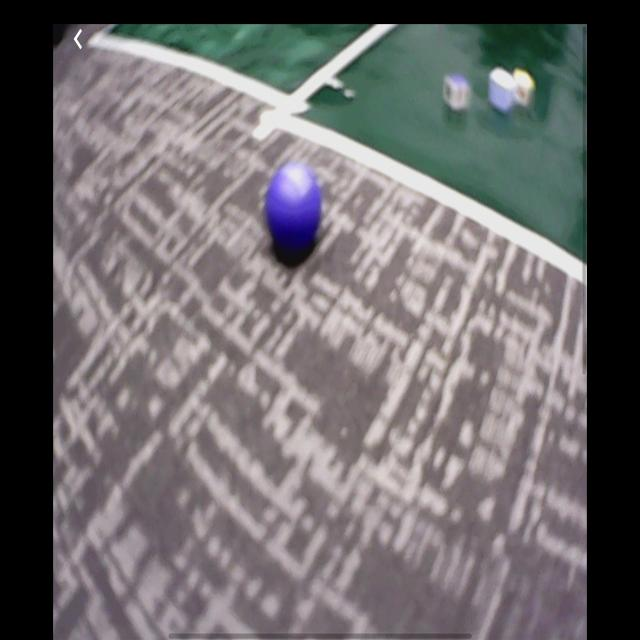ball: (267, 165, 324, 259)
